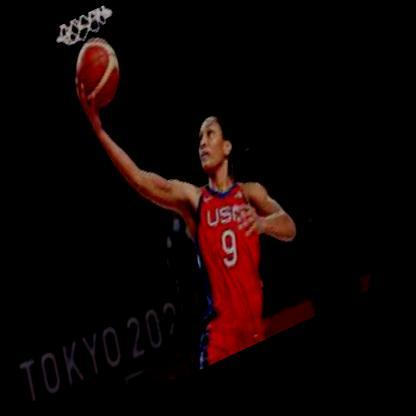basketball: (64, 28, 139, 125)
